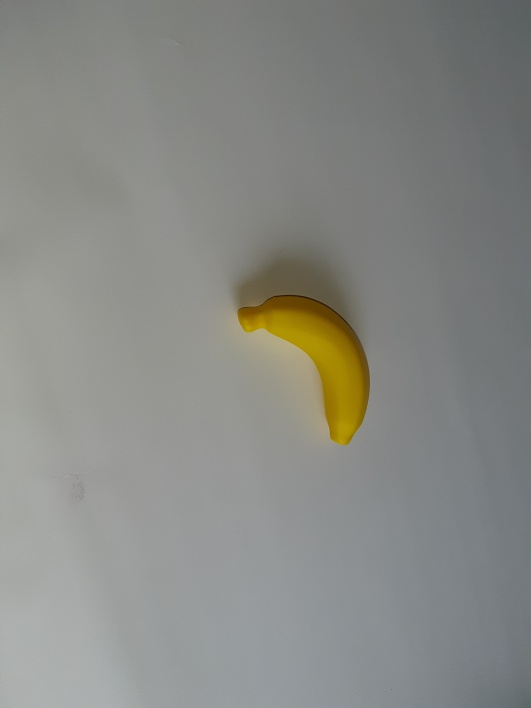banana: (240, 295, 368, 371)
